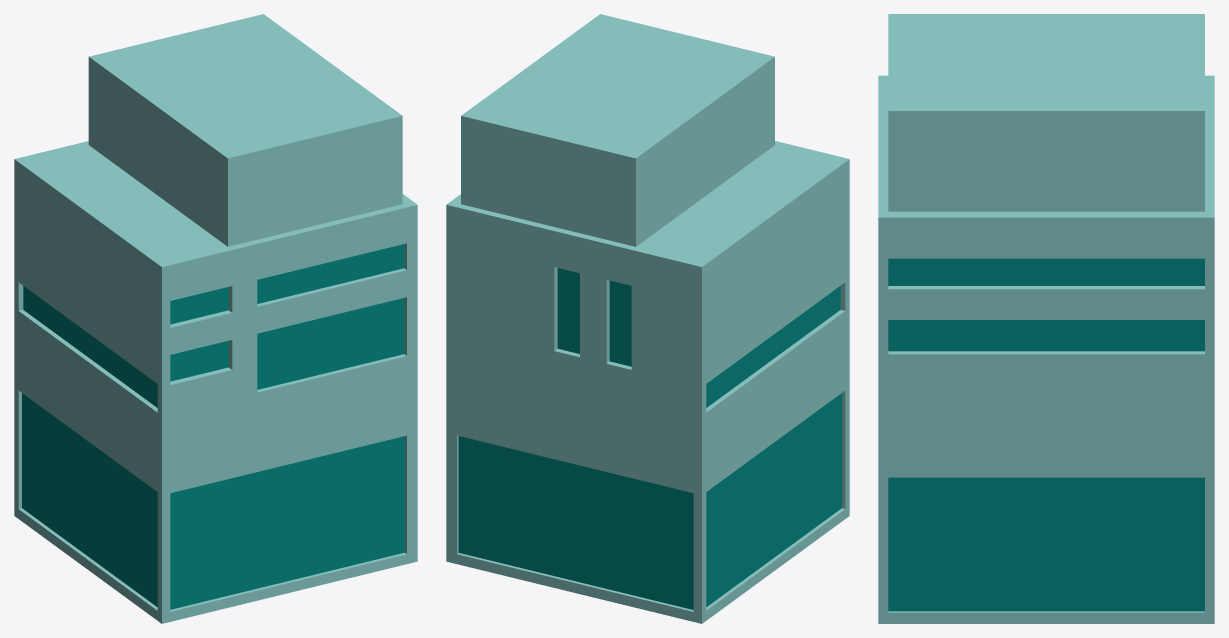
The model's file is bat_8.FBX.
3 views of the same model, side by side, from view 1: azimuth 30°, elevation 25°; view 2: azimuth 150°, elevation 25°; view 3: azimuth 270°, elevation 25° (orthographic). The views are drawn at different scales.
Parts seen in each view (by area): view 1: Box002; view 2: Box002; view 3: Box002.
Boxes of the visible parts, x1,y1,x2,y2 form: Box002: (14,14,417,623); Box002: (446,14,849,623); Box002: (878,14,1214,623).
Size of the model in its own units: 59.06 by 98.25 by 59.06.
